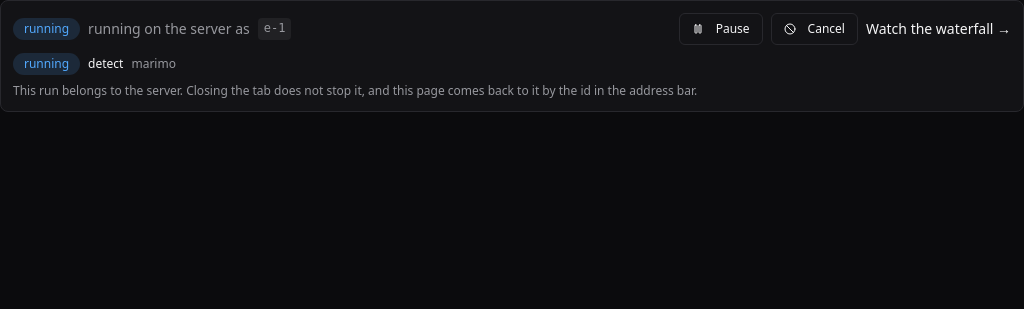
Scenario: reopening one step of a run › shows the source that ran, read by the digest the plan pinned
The width and height of the screenshot is (1024, 309).
Click the button "running detect marimo".
click(47, 64)  # box [13,53,1011,75]
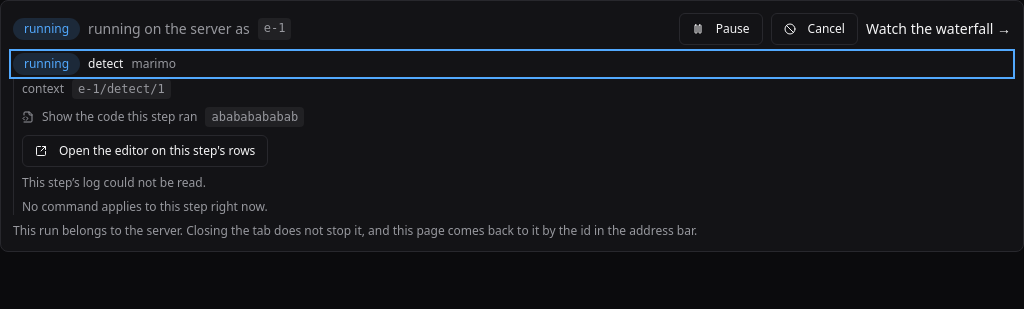
Click the button "Show the code this step ran".
click(110, 117)  # box [22,109,198,125]
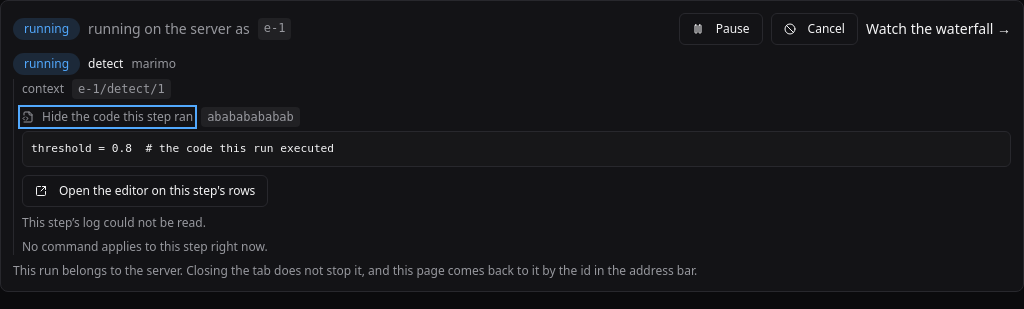
Expected: the text "threshold = 0.8 # the code this run executed" is shown, [22,131,1011,167]
